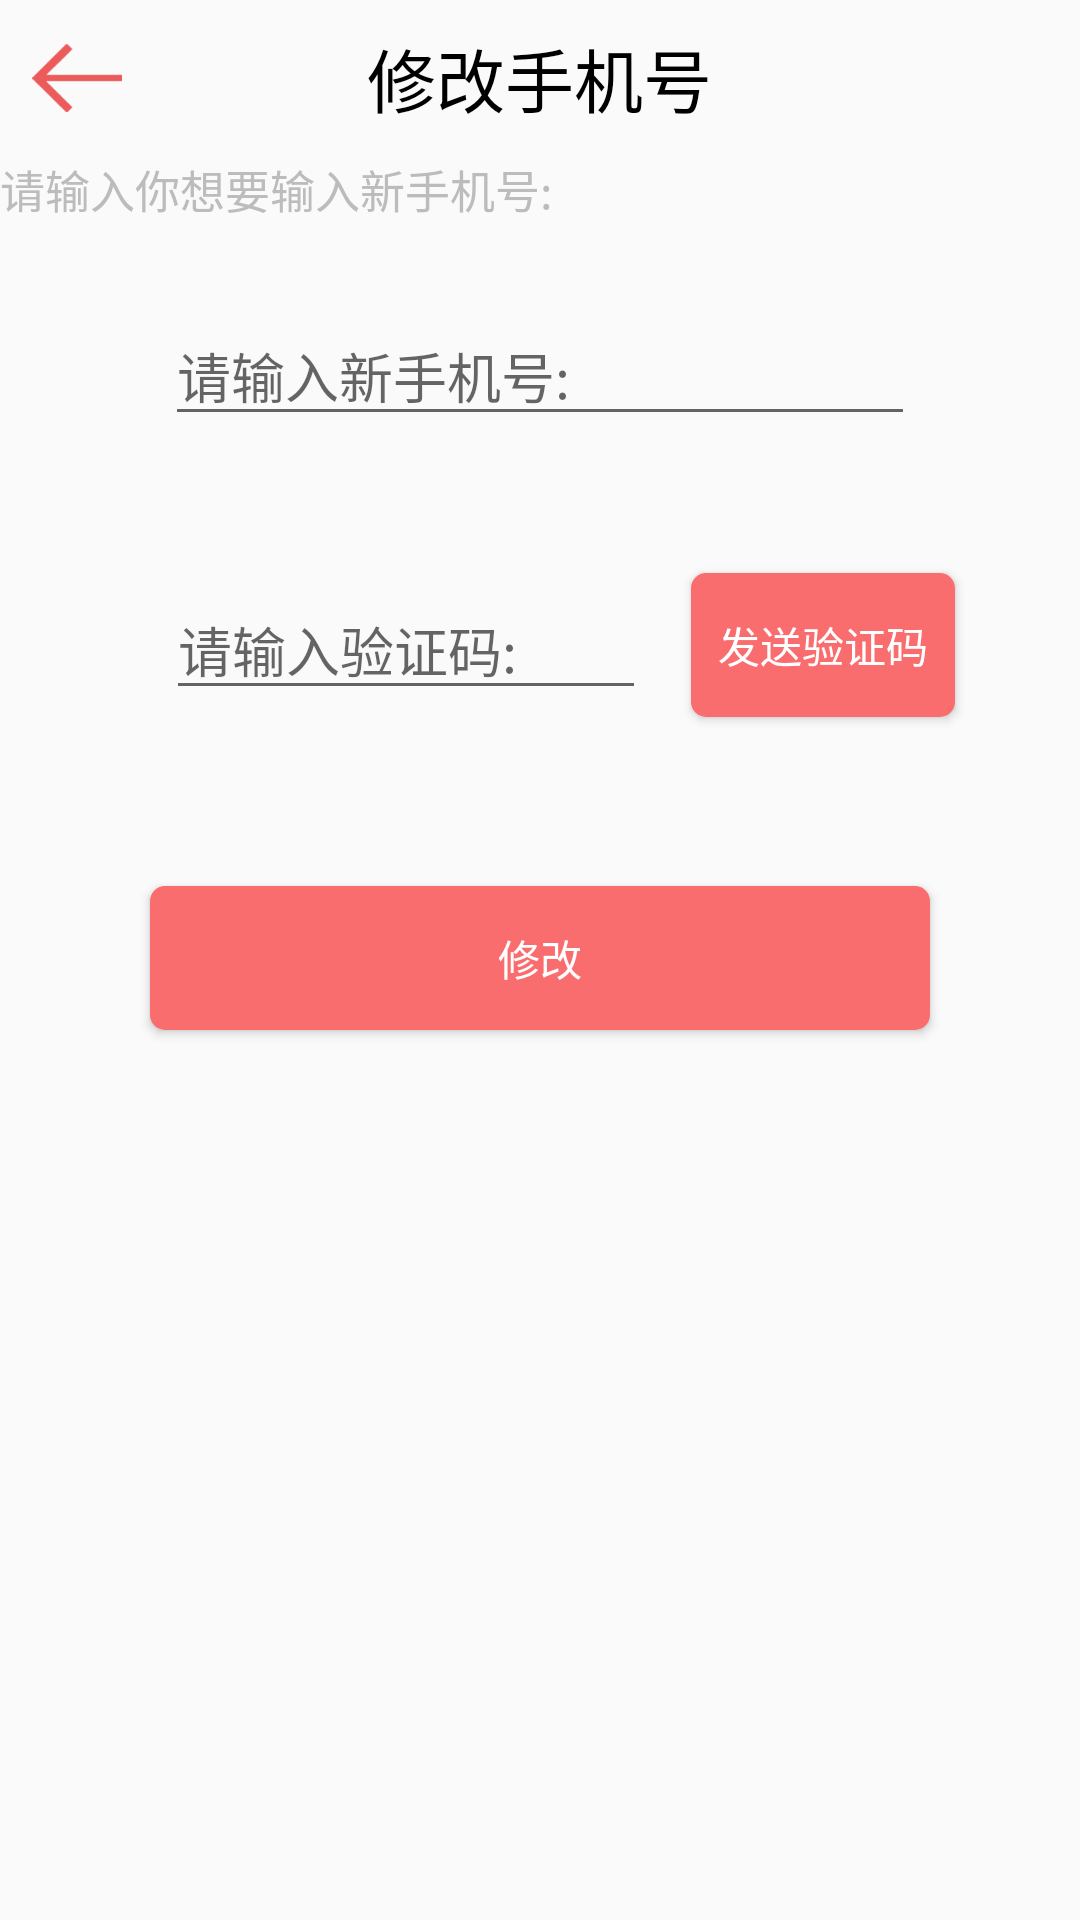

Point at icon controls on the screen. Image size 1080*1920, points as [x,y].
return: [77,78]
